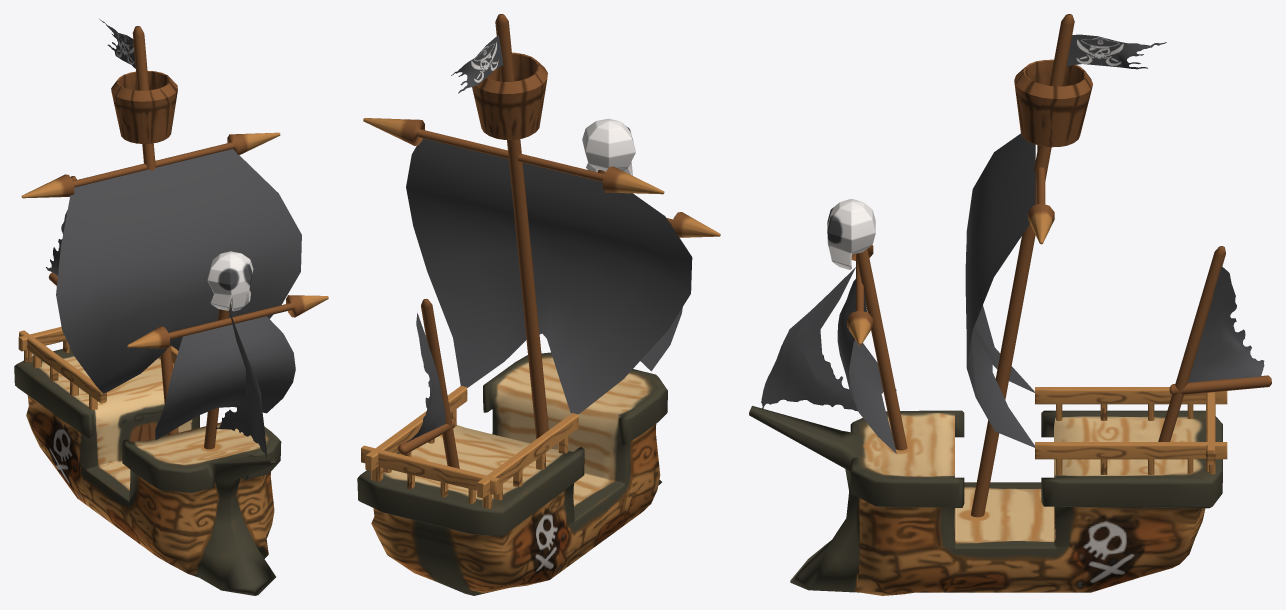
The model's file is BATEAU_LVL1_FBX-Unity.fbx.
3 renders of one model, left to right at view 1: azimuth 30°, elevation 25°; view 2: azimuth 150°, elevation 25°; view 3: azimuth 270°, elevation 25°, orthographic. The views are drawn at different scales.
Parts seen in each view (by area): view 1: base_boat; view 2: base_boat; view 3: base_boat.
Boxes of the visible parts, x1,y1,x2,y2 form: base_boat: (14, 19, 328, 595); base_boat: (357, 14, 720, 595); base_boat: (749, 14, 1271, 595).
Size of the model in its own units: 13.17 by 23.95 by 19.71.
1 material, 1 textured.
